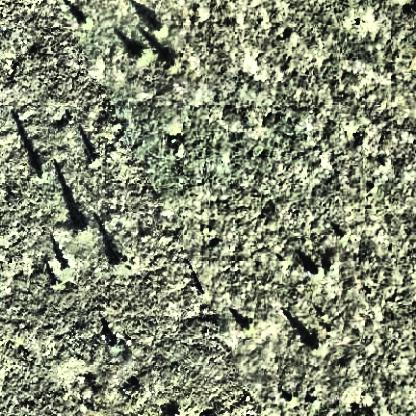tree-top: (306, 331, 326, 354), (150, 20, 171, 41), (72, 221, 94, 241), (131, 46, 152, 66), (84, 154, 106, 172), (164, 53, 180, 74), (308, 262, 324, 282), (79, 13, 95, 31), (107, 336, 123, 354), (31, 168, 47, 184)
